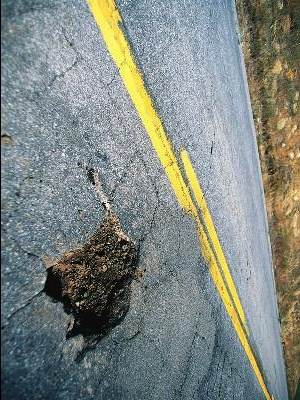pothole: (38, 208, 144, 366)
